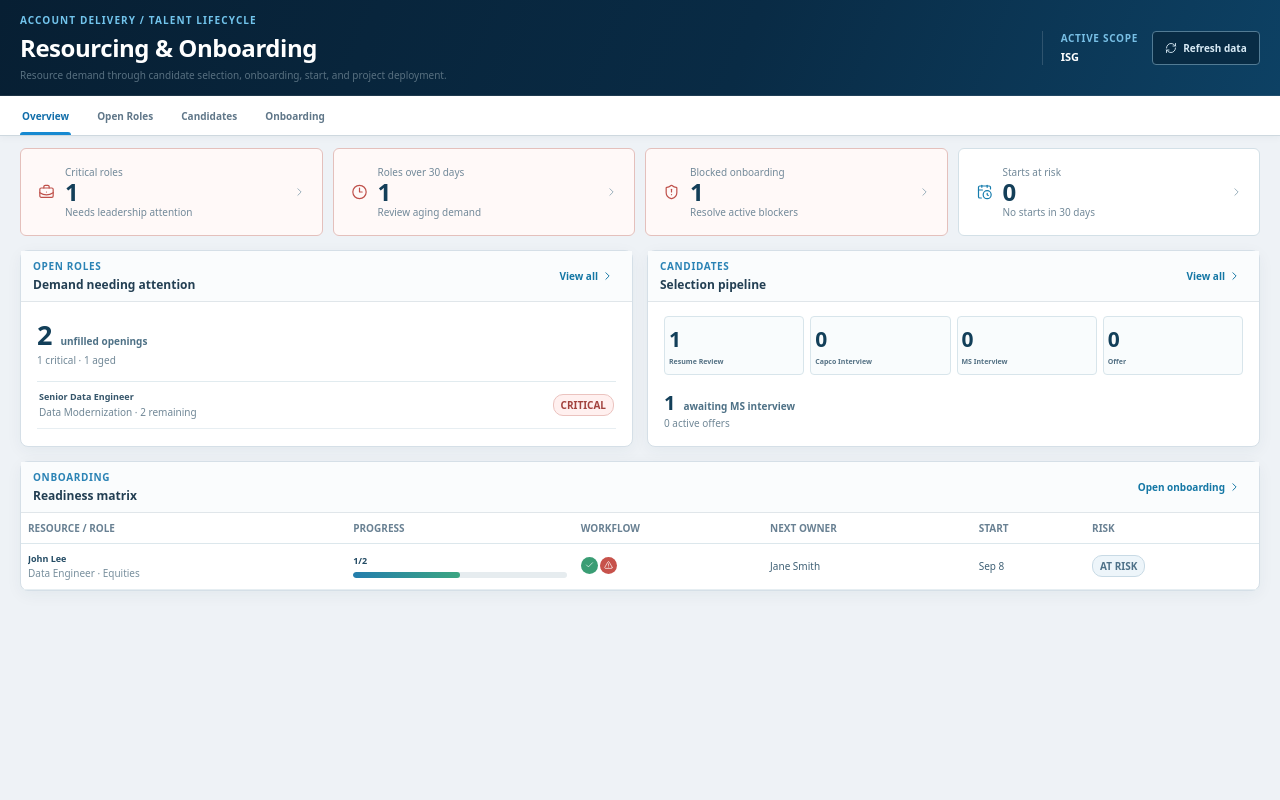
Scenario: ResourcingView › supports both onboarding pipeline and table views with structured status icons
The width and height of the screenshot is (1280, 800).
Click the button "Onboarding": (295, 116) [263,96,327,135]
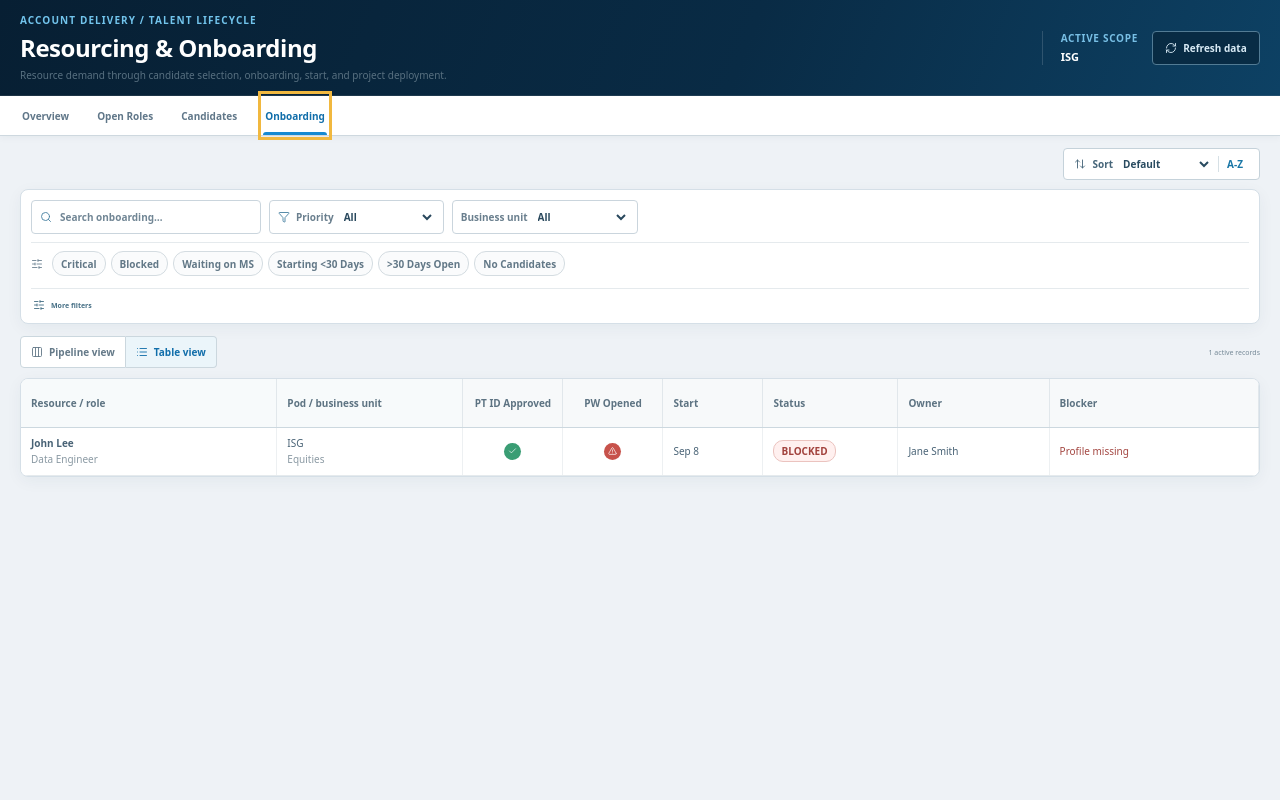
Result: the text "Profile missing" is shown at [1049,427,1258,475]
Result: the column heading "PT ID Approved" is shown at [463,379,563,427]
Result: the column heading "PW Opened" is shown at [563,379,663,427]
